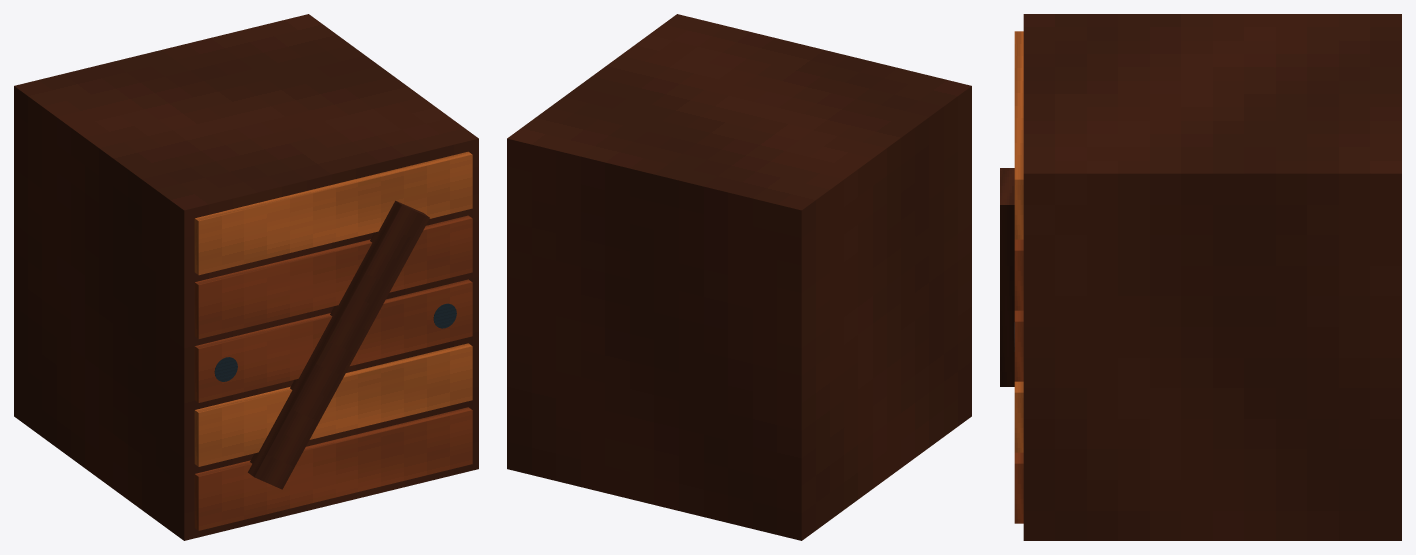
The model's file is bp_woodblock.glb.
3 views of the same model, side by side, from view 1: azimuth 30°, elevation 25°; view 2: azimuth 150°, elevation 25°; view 3: azimuth 270°, elevation 25° (orthographic). The views are drawn at different scales.
Visible parts, largest first — view 1: wood_core, wood_plank.004, wood_plank, wood_plank.001, wood_plank.003, wood_plank.002, wood_brace; view 2: wood_core; view 3: wood_core, wood_brace, wood_plank.004, wood_plank, wood_plank.001, wood_plank.002, wood_plank.003.
Boxes of the visible parts, box(x1,y1,x2,y2) form: wood_core: box(14, 14, 478, 540); wood_plank.004: box(194, 151, 472, 275); wood_plank: box(194, 407, 472, 530); wood_plank.001: box(194, 343, 472, 466); wood_plank.003: box(194, 215, 472, 338); wood_plank.002: box(194, 279, 472, 402); wood_brace: box(248, 200, 429, 489); wood_core: box(507, 14, 971, 540); wood_core: box(1023, 14, 1401, 540); wood_brace: box(1000, 168, 1014, 386); wood_plank.004: box(1014, 31, 1023, 239); wood_plank: box(1014, 452, 1023, 523); wood_plank.001: box(1014, 381, 1023, 452); wood_plank.002: box(1014, 310, 1023, 381); wood_plank.003: box(1014, 239, 1023, 310).
Bounding box in the file's own units: 1.4 × 1.5 × 1.49.
Materials: 4 (4 with a texture image).
